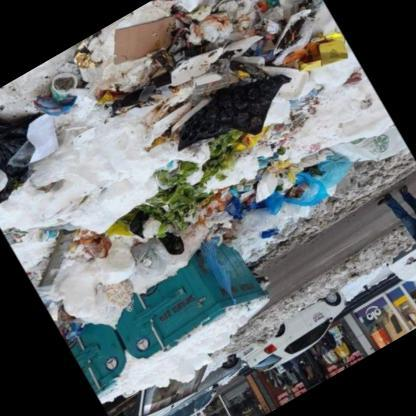Garbage: (117, 0, 415, 261), (0, 104, 238, 330), (0, 60, 108, 221)
